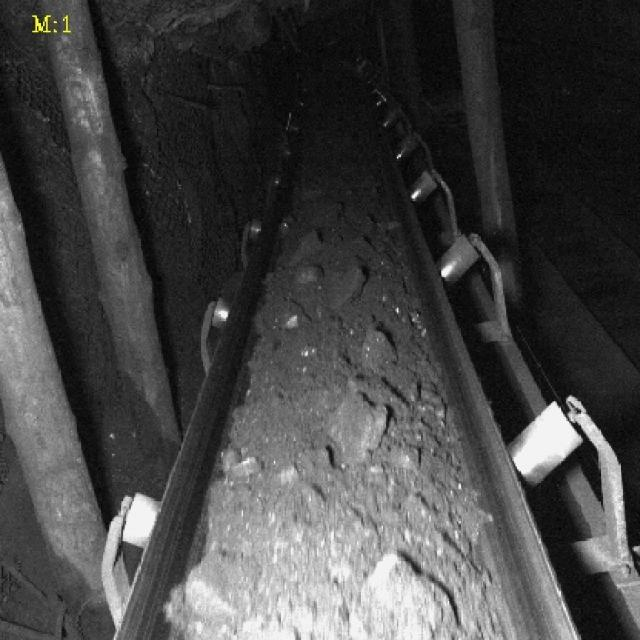large_sized_coal: (337, 551, 448, 640), (330, 394, 388, 460), (188, 554, 245, 618), (361, 326, 397, 374)
